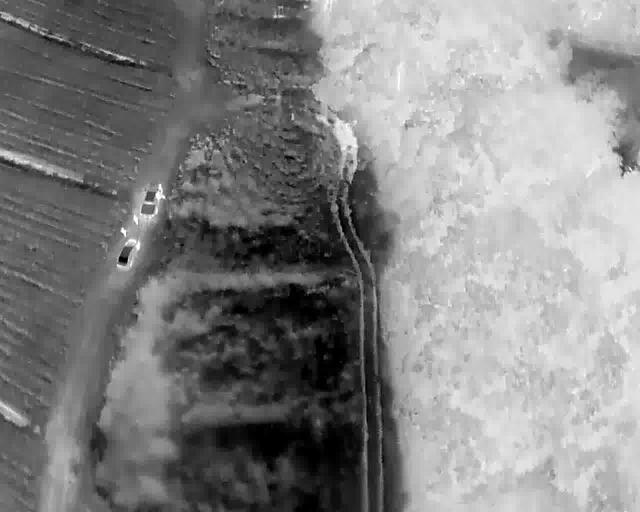car: (116, 238, 140, 268), (139, 189, 165, 216)
person: (132, 214, 138, 224), (120, 227, 126, 237)
